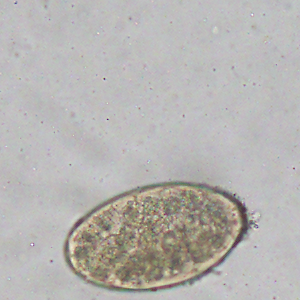Fasciola_hepatica_egg: (62, 180, 249, 293)
